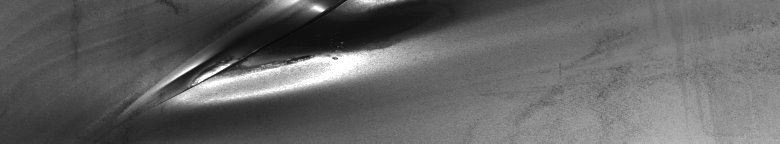ke: (123, 4, 405, 114)
